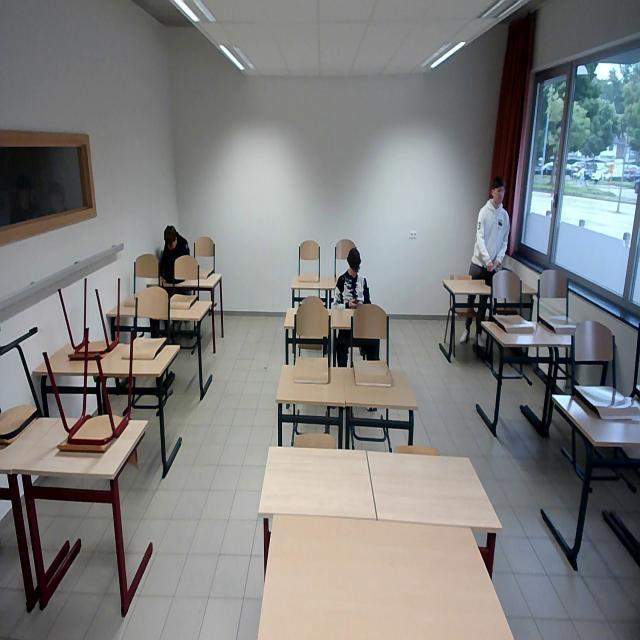phone_use: (334, 246, 369, 306), (158, 225, 188, 282)
